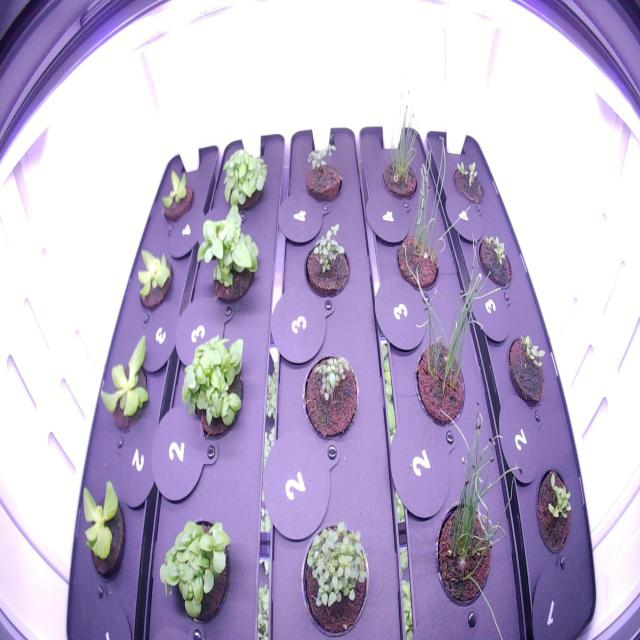germination: (298, 516, 374, 640), (300, 350, 360, 450), (530, 459, 577, 564), (297, 218, 355, 301), (502, 326, 550, 416), (297, 136, 347, 209), (472, 228, 516, 292), (447, 152, 488, 210)
young: (91, 324, 157, 440), (73, 474, 130, 585), (130, 243, 176, 315), (156, 161, 197, 229)
